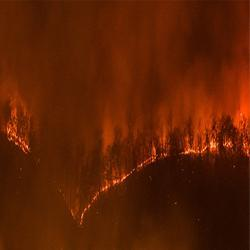fire: (9, 117, 27, 148), (187, 147, 209, 154)
